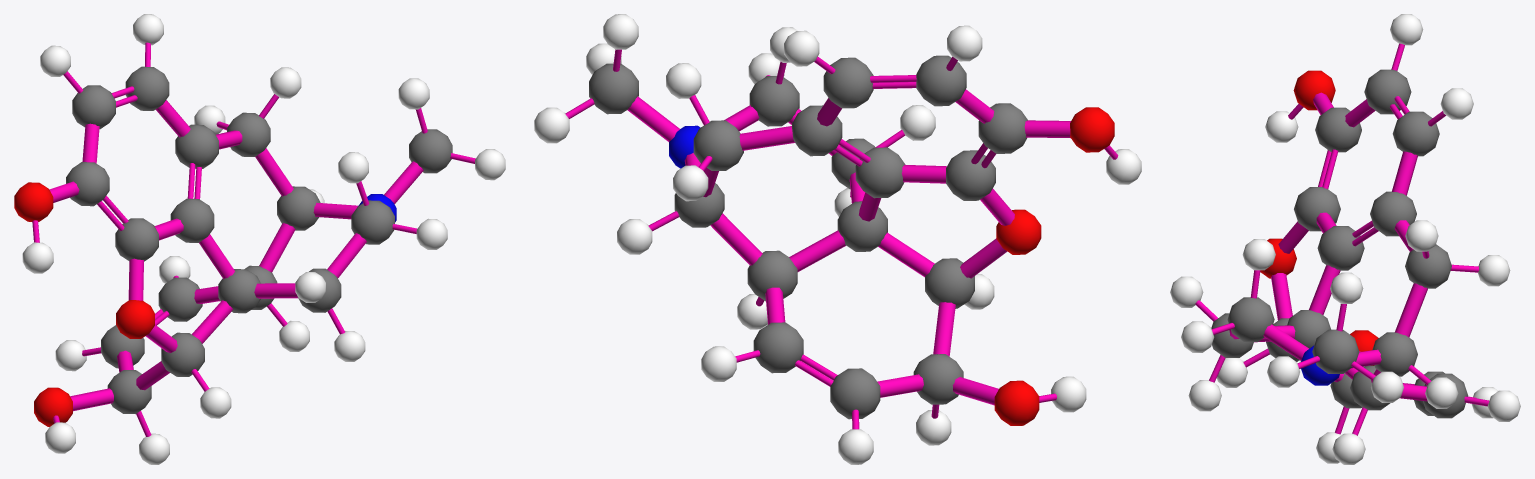
The model's file is morphine.glb.
3 views of the same model, side by side, from view 1: azimuth 30°, elevation 25°; view 2: azimuth 150°, elevation 25°; view 3: azimuth 270°, elevation 25° (orthographic). The views are drawn at different scales.
Parts seen in each view (by area): view 1: node-geom63, node-geom65, node-geom59, node-geom68, node-geom66, node-geom60, node-geom62, node-geom57, node-geom67, node-geom54, node-geom55, node-geom52 (+37 smaller); view 2: node-geom64, node-geom62, node-geom68, node-geom66, node-geom65, node-geom58, node-geom59, node-geom57, node-geom63, node-geom67, node-geom55, node-geom60 (+40 smaller); view 3: node-geom65, node-geom66, node-geom59, node-geom57, node-geom68, node-geom67, node-geom58, node-geom60, node-geom54, node-geom63, node-geom50, node-geom52 (+34 smaller).
Part boxes in pixels (bbox=[...]): node-geom63: bbox=[115, 218, 158, 261]; node-geom65: bbox=[409, 129, 452, 173]; node-geom59: bbox=[351, 200, 394, 244]; node-geom68: bbox=[72, 85, 115, 129]; node-geom66: bbox=[125, 66, 169, 110]; node-geom60: bbox=[175, 124, 218, 168]; node-geom62: bbox=[158, 277, 202, 321]; node-geom57: bbox=[170, 198, 214, 242]; node-geom67: bbox=[66, 162, 109, 206]; node-geom54: bbox=[277, 186, 320, 230]; node-geom55: bbox=[161, 332, 204, 376]; node-geom52: bbox=[218, 269, 260, 313]; node-geom64: bbox=[830, 368, 880, 419]; node-geom62: bbox=[753, 322, 803, 373]; node-geom68: bbox=[916, 55, 966, 106]; node-geom66: bbox=[823, 57, 873, 108]; node-geom65: bbox=[589, 63, 638, 114]; node-geom58: bbox=[693, 120, 743, 170]; node-geom59: bbox=[749, 76, 799, 126]; node-geom57: bbox=[855, 147, 905, 198]; node-geom63: bbox=[946, 150, 995, 200]; node-geom67: bbox=[978, 103, 1027, 153]; node-geom55: bbox=[925, 258, 974, 308]; node-geom60: bbox=[792, 105, 842, 156]; node-geom65: bbox=[1312, 329, 1359, 373]; node-geom66: bbox=[1392, 111, 1439, 156]; node-geom59: bbox=[1227, 297, 1274, 341]; node-geom57: bbox=[1317, 226, 1364, 270]; node-geom68: bbox=[1364, 69, 1411, 114]; node-geom67: bbox=[1315, 107, 1361, 152]; node-geom58: bbox=[1405, 244, 1451, 288]; node-geom60: bbox=[1370, 191, 1416, 236]; node-geom54: bbox=[1372, 332, 1417, 376]; node-geom63: bbox=[1294, 187, 1340, 231]; node-geom50: bbox=[1293, 70, 1335, 110]; node-geom52: bbox=[1287, 310, 1330, 348].
Bounding box in the file's own units: 9.44 × 7.62 × 5.81.
